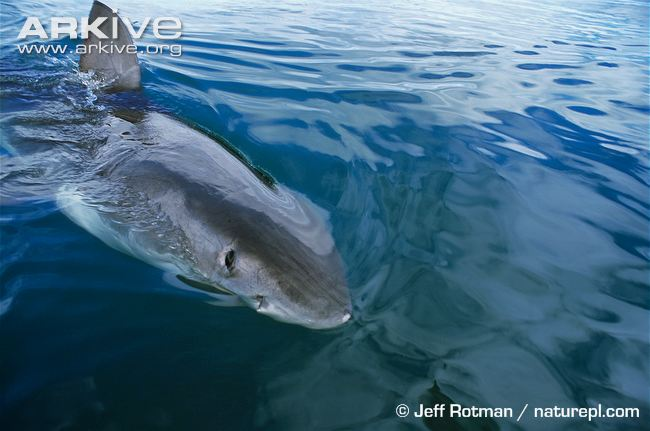shark: (13, 2, 375, 346)
